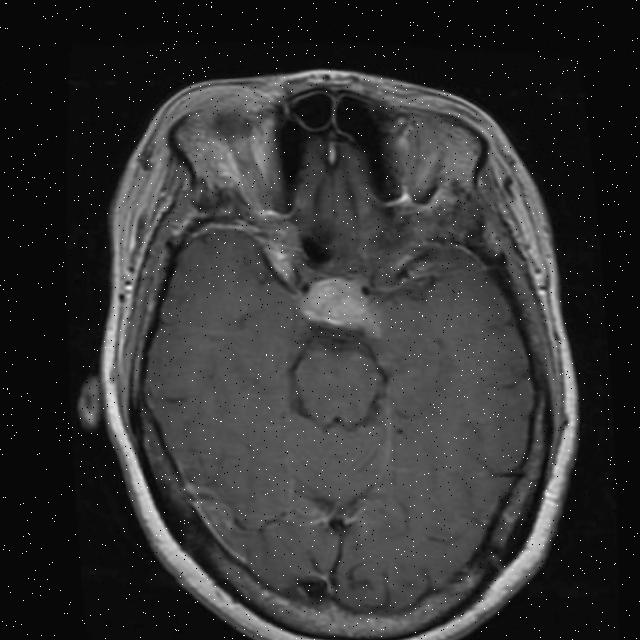Pituitary: (308, 275, 366, 328)
